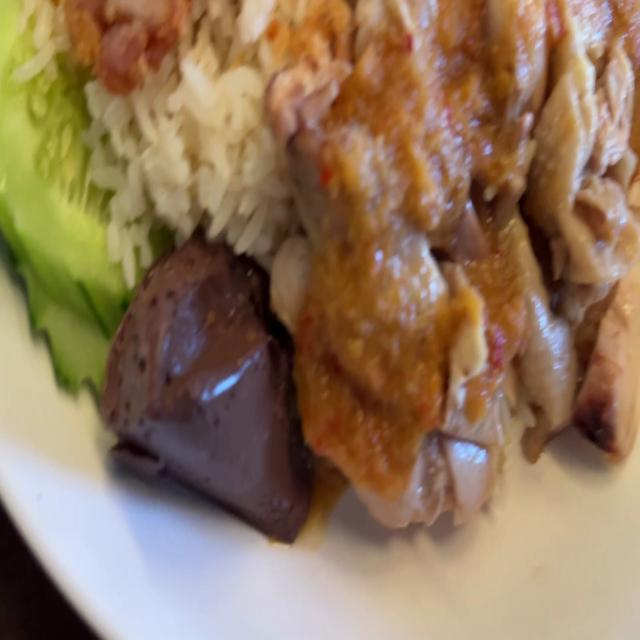boiled_chicken: (266, 0, 640, 500)
boiled_chicken_blood_jelly: (109, 231, 303, 541)
chicken_rice: (0, 0, 640, 534)
cucumber: (0, 0, 153, 365)
fried_chicken: (70, 0, 196, 82)
